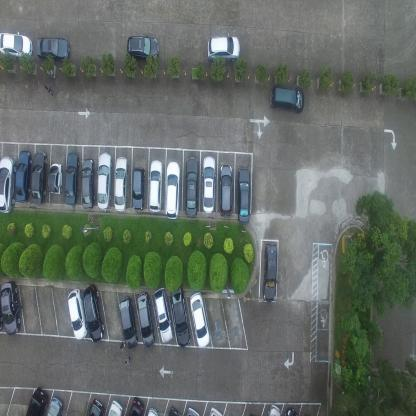car: (170, 283, 191, 348), (189, 290, 211, 348), (83, 282, 104, 342), (135, 290, 156, 348), (0, 280, 21, 336), (118, 294, 139, 350), (154, 286, 173, 344), (68, 286, 88, 341), (0, 31, 33, 63), (269, 84, 304, 114), (36, 34, 71, 63), (30, 150, 48, 206), (127, 33, 160, 63), (207, 34, 241, 63), (96, 150, 112, 211), (0, 154, 16, 215), (262, 242, 278, 302), (201, 154, 216, 216), (15, 149, 32, 203), (64, 151, 80, 206), (185, 155, 199, 217), (114, 155, 129, 212), (166, 160, 180, 219), (218, 163, 233, 218), (236, 167, 250, 225), (148, 158, 163, 212), (81, 156, 95, 209), (26, 386, 48, 416), (132, 166, 146, 212), (47, 160, 63, 194), (46, 396, 65, 415), (88, 397, 104, 415), (108, 398, 124, 416), (129, 396, 144, 415), (267, 403, 282, 415), (166, 404, 182, 415), (208, 404, 224, 415), (185, 404, 200, 415), (284, 405, 298, 415), (147, 404, 159, 415)
